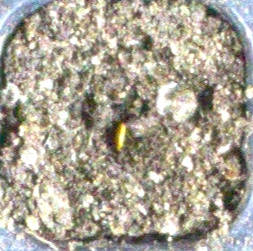pepper seed: (49, 44, 177, 198)
